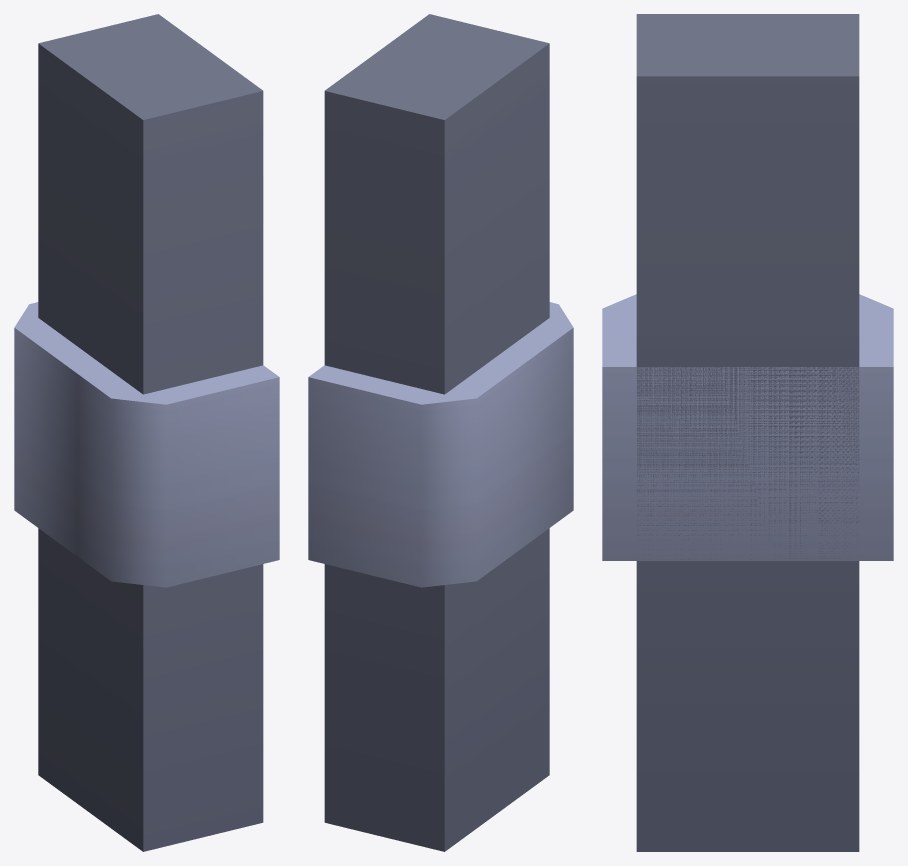
File: chimney.glb
The picture shows the model from 3 angles, left to right: view 1: azimuth 30°, elevation 25°; view 2: azimuth 150°, elevation 25°; view 3: azimuth 270°, elevation 25°; orthographic projection. The views are drawn at different scales.
Visible parts, largest first — view 1: chimney; view 2: chimney; view 3: chimney.
Boxes of the visible parts, x1,y1,x2,y2 form: chimney: (14, 14, 279, 851); chimney: (308, 14, 573, 851); chimney: (602, 14, 893, 851).
Bounding box in the file's own units: 0.2119 × 1 × 0.34.
Materials: 1 (1 with a texture image).
